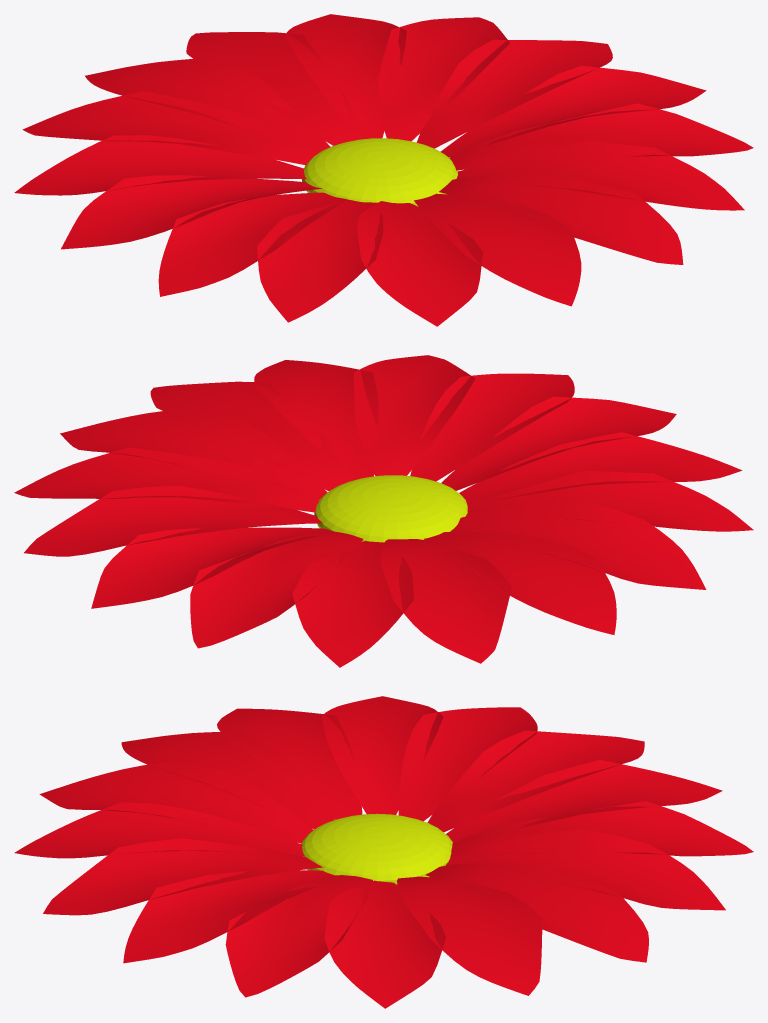
The model's file is bloem.glb.
3 renders of one model, top to bottom at view 1: azimuth 30°, elevation 25°; view 2: azimuth 150°, elevation 25°; view 3: azimuth 270°, elevation 25°, orthographic.
Parts seen in each view (by area): view 1: Circle, Sphere; view 2: Circle, Sphere; view 3: Circle, Sphere.
Part boxes in pixels (left/top/right/bottom): Circle: left=14, top=14, right=753, bottom=326; Sphere: left=301, top=138, right=458, bottom=206; Circle: left=14, top=355, right=753, bottom=667; Sphere: left=314, top=475, right=467, bottom=542; Circle: left=14, top=696, right=753, bottom=1008; Sphere: left=301, top=813, right=452, bottom=884.
Size of the model in its own units: 5.77 by 0.4682 by 5.77.
